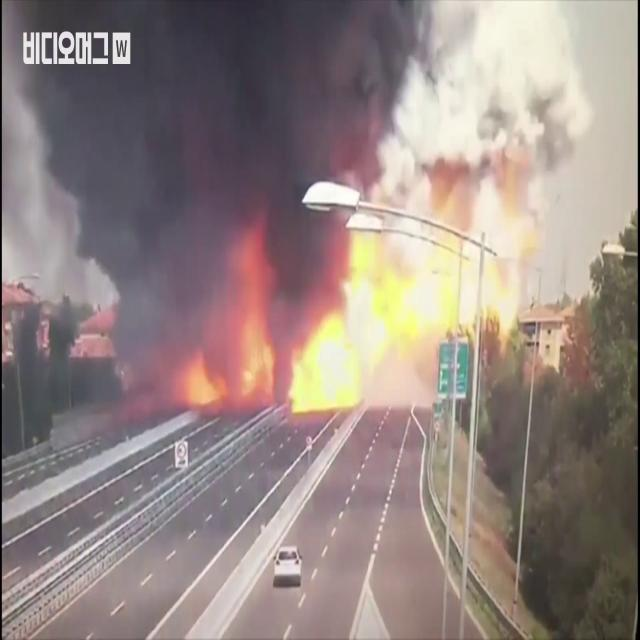explosion: (3, 0, 640, 500)
